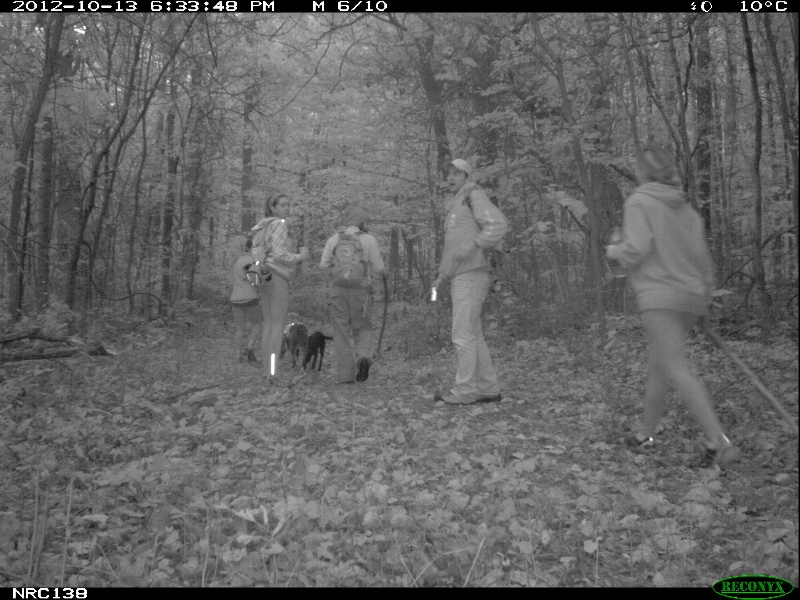dog: (272, 323, 308, 369), (296, 330, 334, 371)
human: (604, 143, 729, 472), (427, 154, 512, 405), (319, 206, 383, 387), (248, 189, 299, 383), (232, 246, 262, 366)
human face: (629, 162, 653, 187), (444, 165, 465, 191), (354, 215, 372, 233), (276, 198, 289, 219)
human legs: (622, 287, 740, 466), (445, 270, 501, 405), (327, 282, 379, 387), (252, 267, 290, 383), (230, 298, 263, 367)
